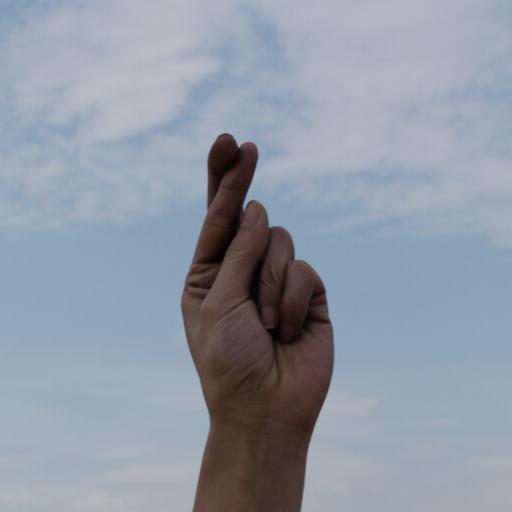R: (148, 90, 382, 462)
